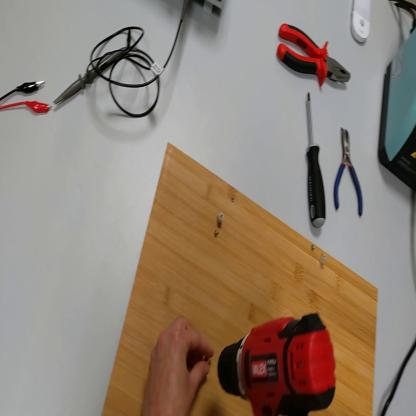electric screwdriver: (218, 313, 337, 415)
hand: (142, 316, 215, 414)
oscilloscope: (193, 3, 226, 14)
oscilloscope probe tip: (55, 44, 137, 105)
pliers: (274, 20, 354, 87), (335, 126, 365, 221)
screwdriver-: (307, 91, 328, 229)
welder station: (379, 28, 416, 193)
working area: (103, 144, 381, 416)
